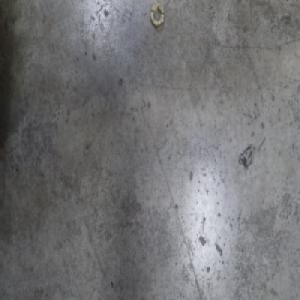Nut: (149, 1, 165, 30)
